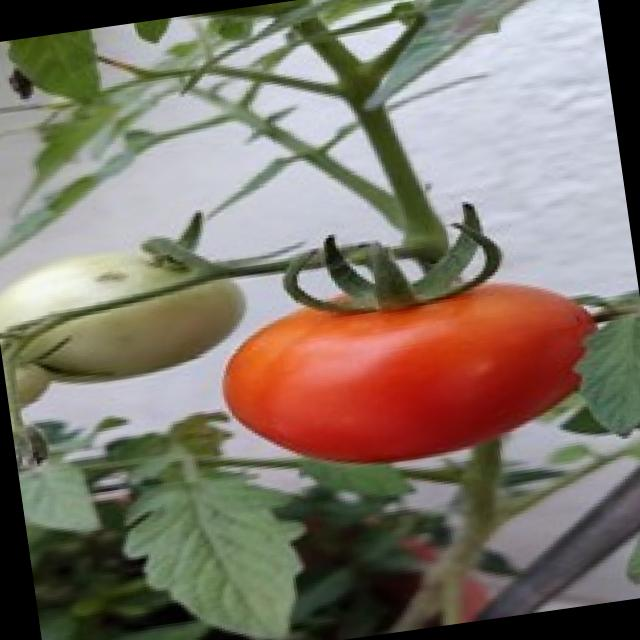tomato: (223, 283, 595, 461)
